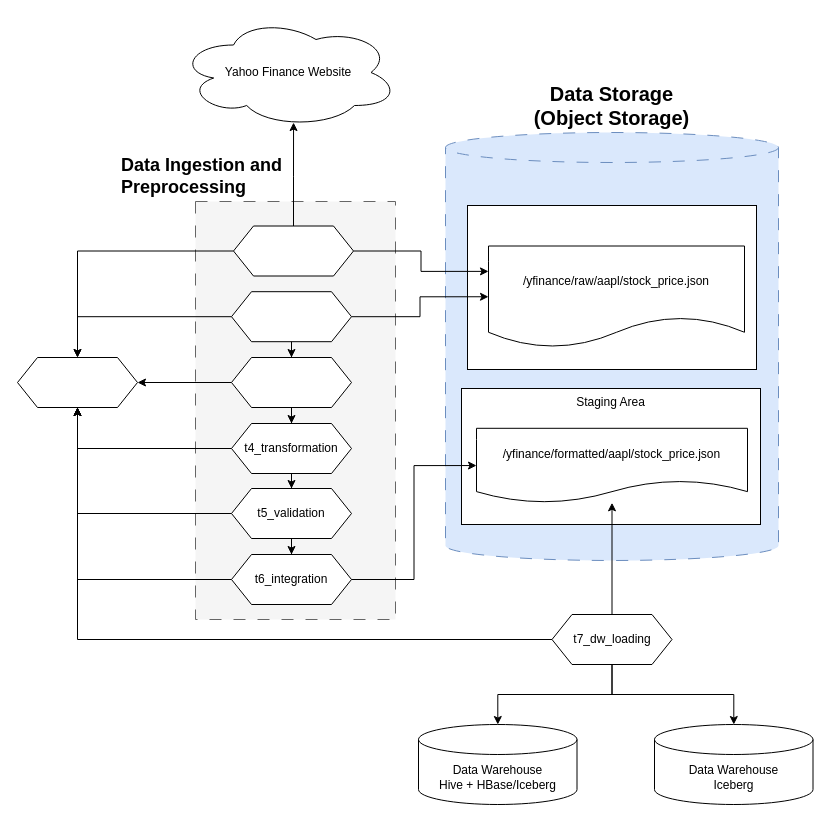
The diagram is 831 pixels wide and 822 high, and some of its shapes have lost their labels. Each missing label, with the box of its shape:
Raw Area: (466, 204, 756, 370)
stage_notification (Slack): (16, 356, 138, 408)
t1_extraction: (232, 225, 354, 276)
t2_profiling: (230, 291, 352, 342)
t3_cleansing: (230, 356, 352, 408)
